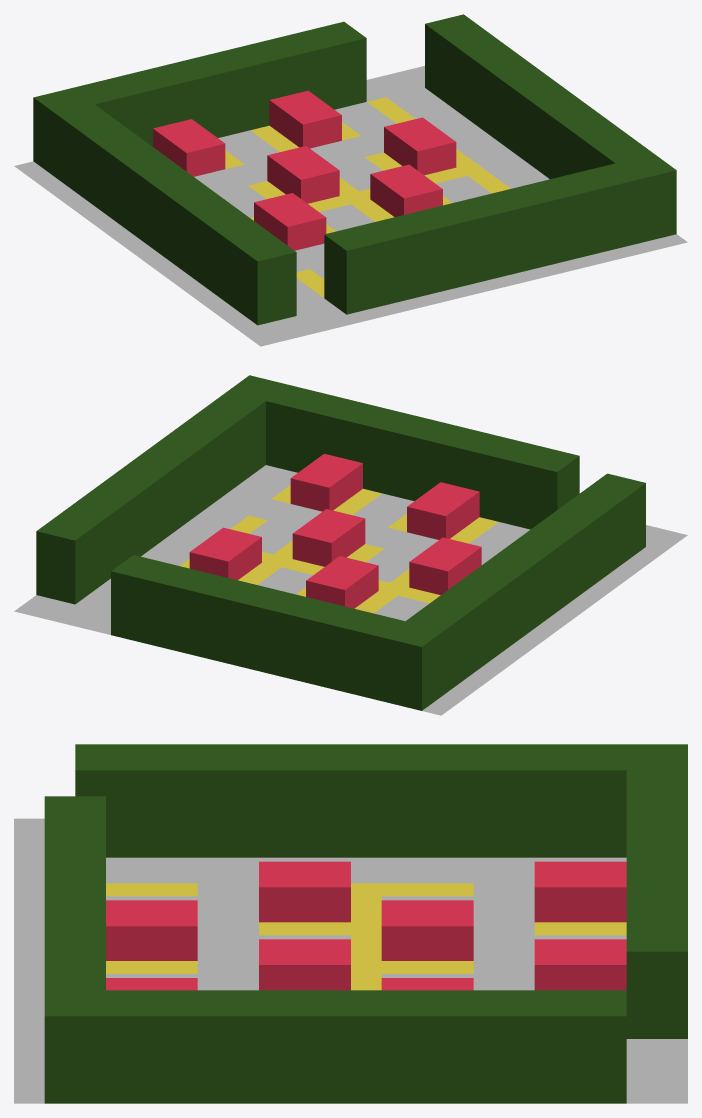
The model's file is Layout_ParkingLot.fbx.
3 renders of one model, top to bottom at view 1: azimuth 30°, elevation 25°; view 2: azimuth 150°, elevation 25°; view 3: azimuth 270°, elevation 25°, orthographic. The views are drawn at different scales.
Visible parts, largest first — view 1: Trees, Plane, Cars; view 2: Trees, Plane, Cars; view 3: Trees, Plane, Cars.
Boxes of the visible parts, x1,y1,x2,y2 form: Trees: [33, 14, 676, 325]; Plane: [14, 66, 687, 346]; Cars: [153, 90, 456, 250]; Trees: [36, 375, 645, 710]; Plane: [14, 465, 687, 715]; Cars: [189, 453, 481, 608]; Trees: [44, 744, 687, 1103]; Plane: [14, 818, 687, 1103]; Cars: [106, 861, 626, 990].
Bounding box in the file's own units: 3500 × 500 × 3500.
